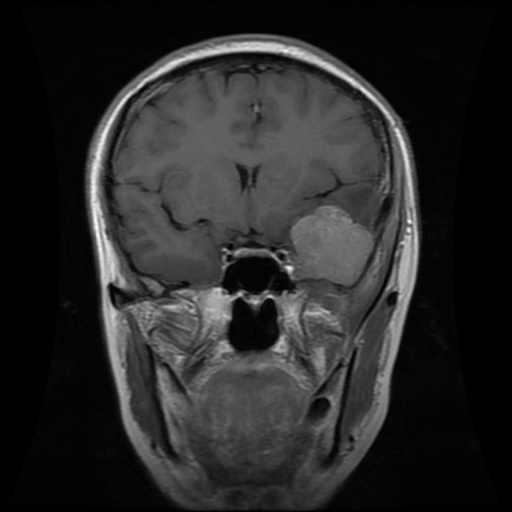meningioma: (289, 204, 374, 287)
